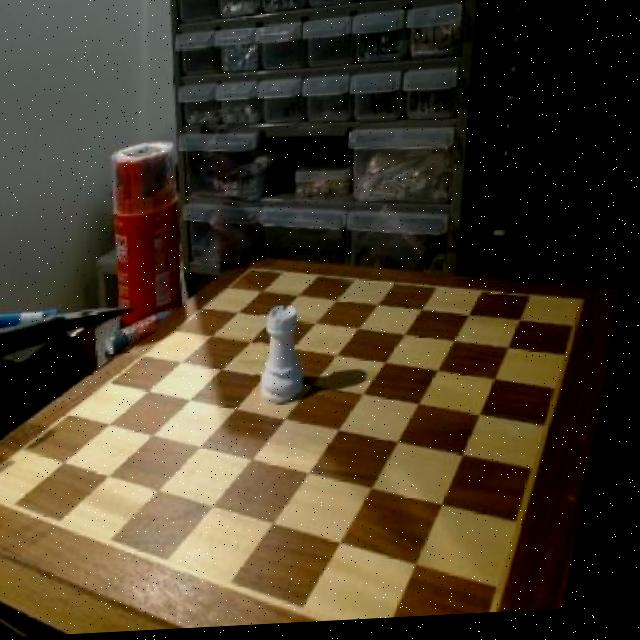white-queen: (258, 308, 311, 410)
